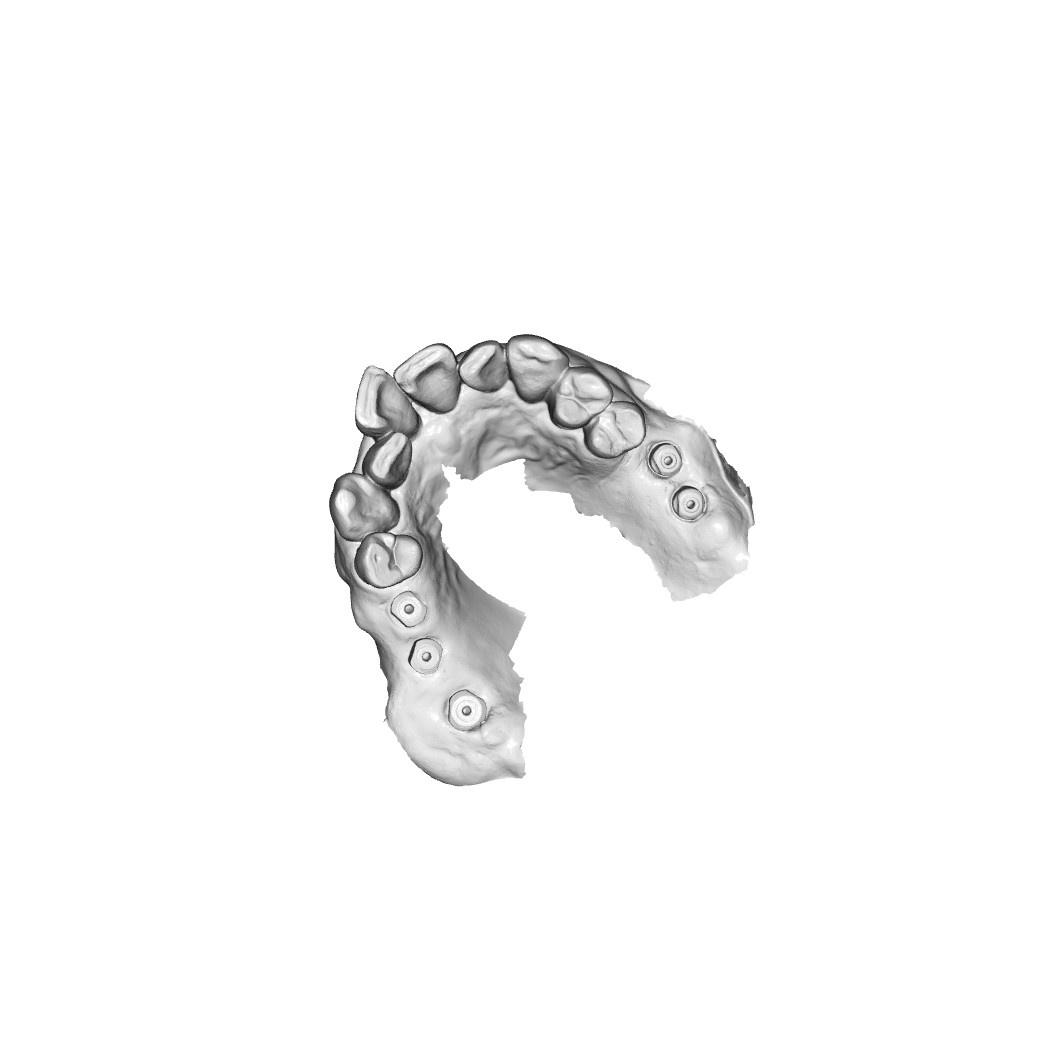canine: (327, 472, 407, 539), (506, 336, 565, 404)
implant: (446, 685, 487, 729), (408, 636, 446, 675), (648, 441, 681, 481), (671, 487, 707, 522), (394, 592, 424, 629)
incisor: (356, 365, 422, 437), (398, 345, 464, 410), (367, 433, 414, 487), (462, 341, 508, 394)
premolar: (548, 366, 613, 428), (355, 530, 423, 588), (587, 401, 645, 458)
